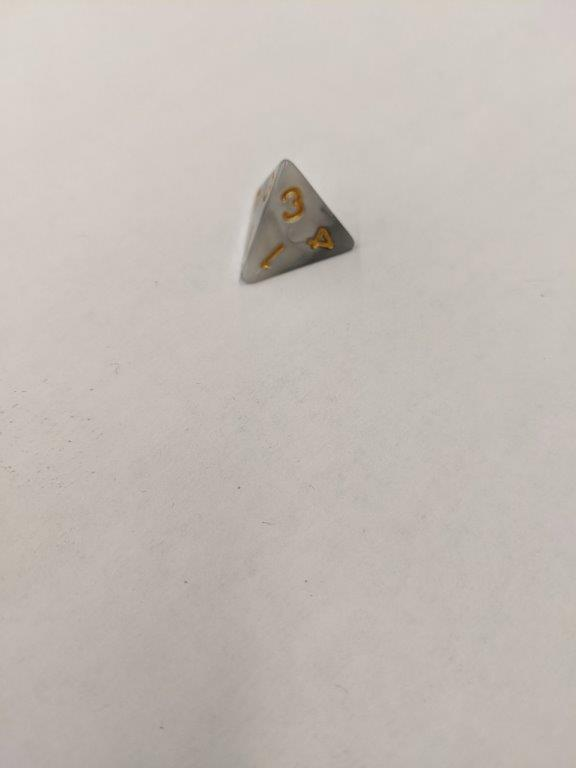d4-3: (236, 155, 359, 287)
